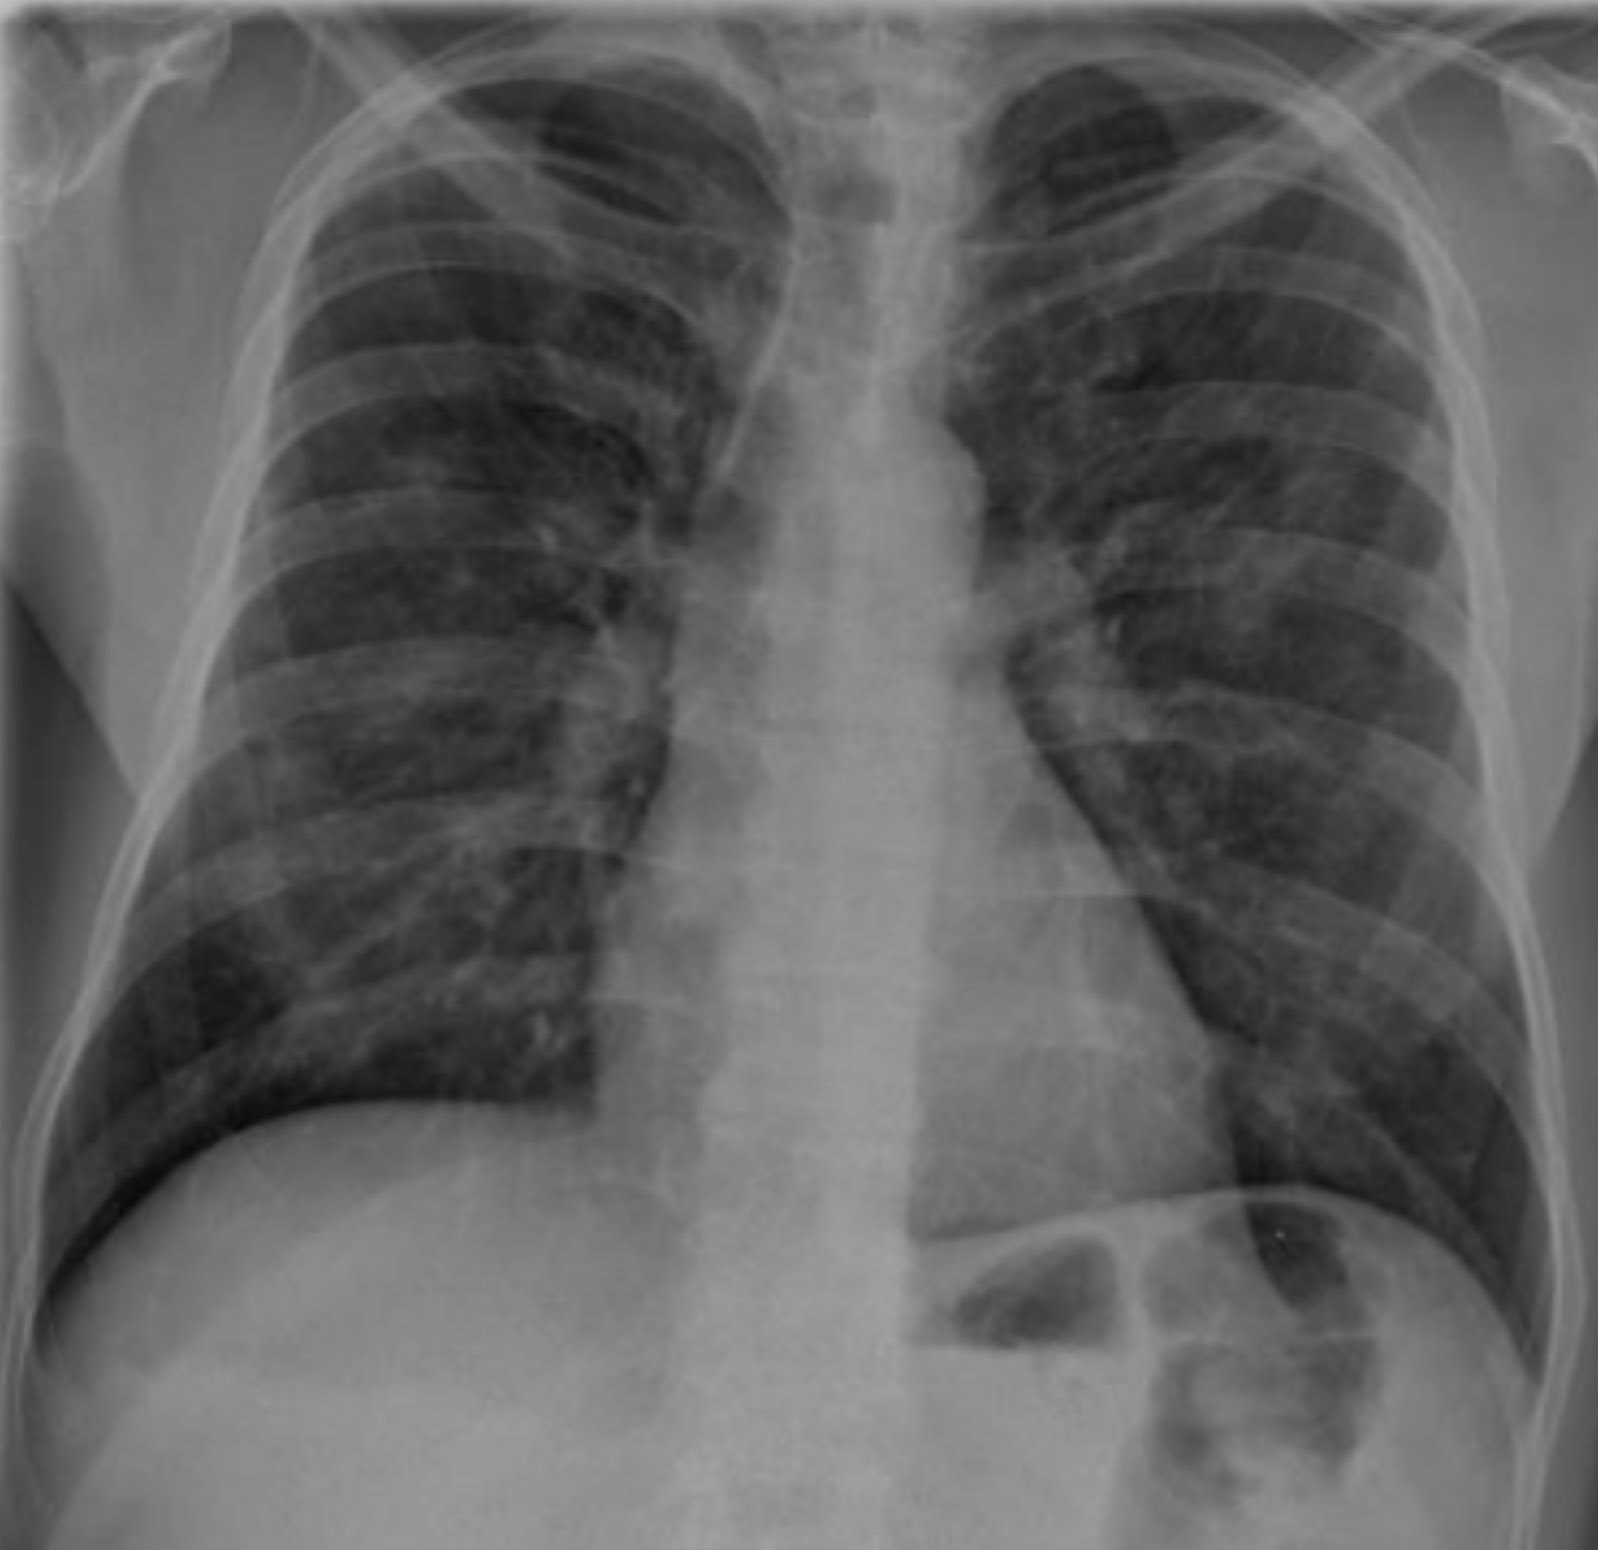Mildw: (63, 41, 770, 1324), (977, 64, 1544, 1344)
